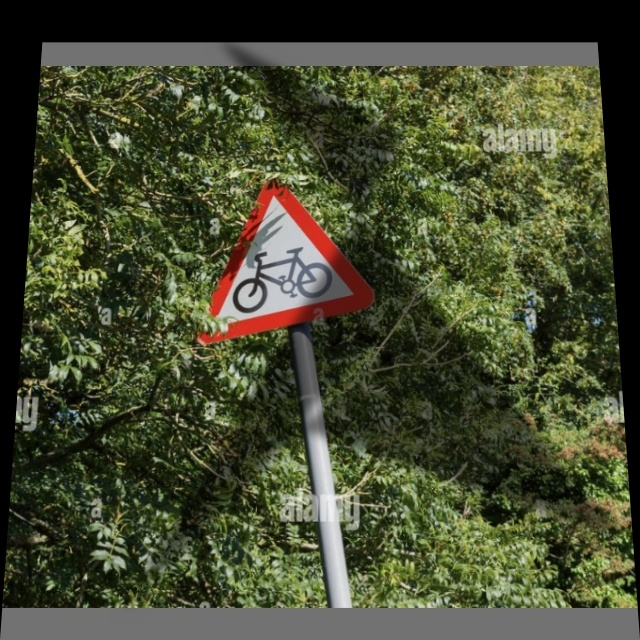Cycle_Crossing: (204, 178, 382, 333)
